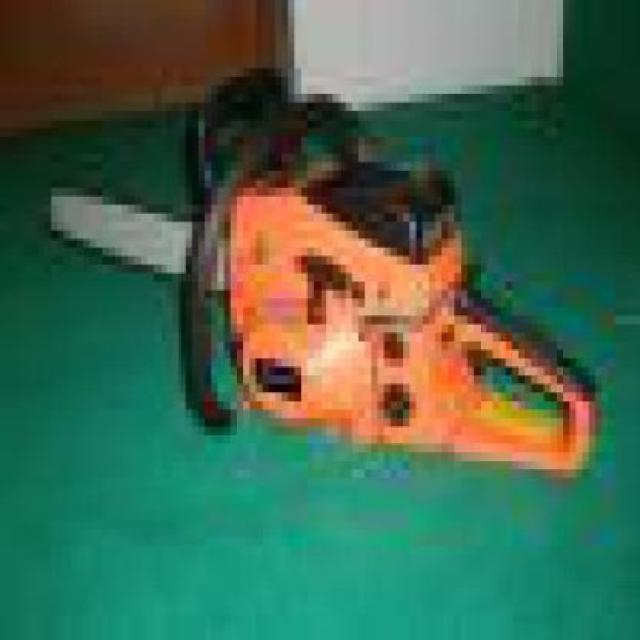Chainsaw: (42, 69, 608, 483)
